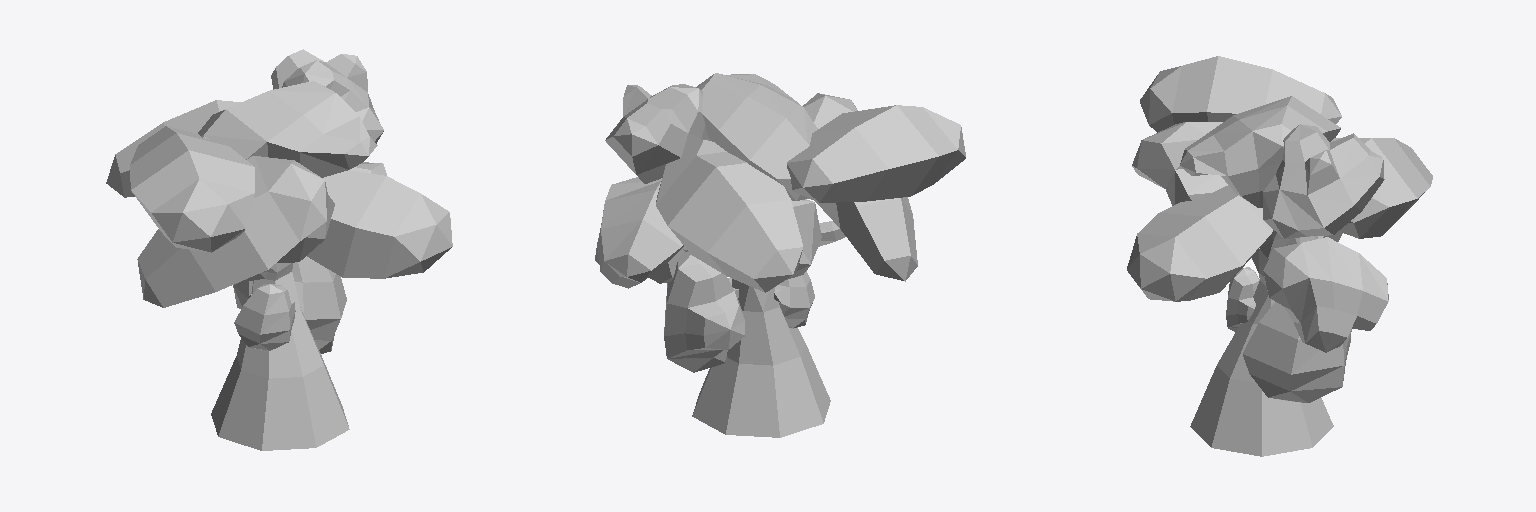
File: tree2.obj
3 views of the same model, side by side, from view 1: azimuth 30°, elevation 25°; view 2: azimuth 150°, elevation 25°; view 3: azimuth 270°, elevation 25° (orthographic).
Visible parts, largest first — view 1: tree2_Cylinder.004; view 2: tree2_Cylinder.004; view 3: tree2_Cylinder.004.
Part boxes in pixels (x1,y1,x2,y2): tree2_Cylinder.004: (106,49,452,450); tree2_Cylinder.004: (595,73,965,437); tree2_Cylinder.004: (1127,56,1432,456).
Bounding box in the file's own units: 13.34 × 14.01 × 11.96.